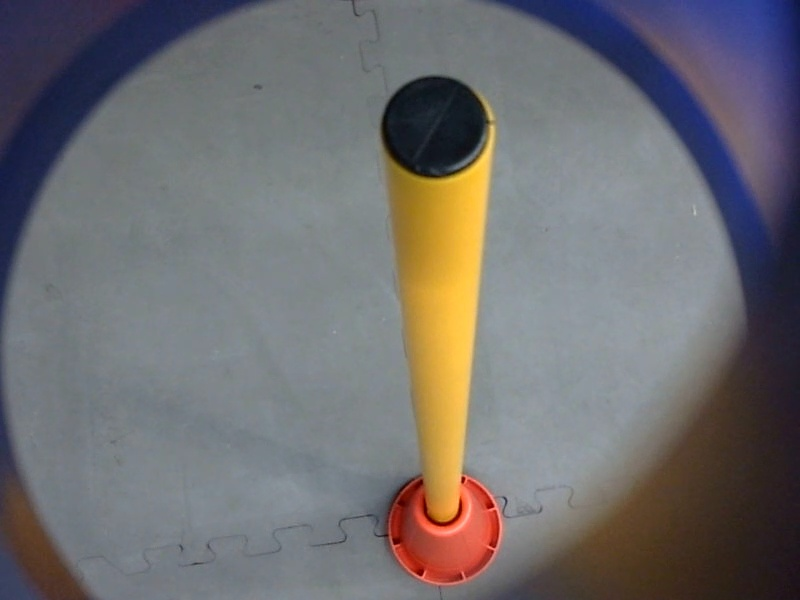tip: (373, 70, 501, 185)
